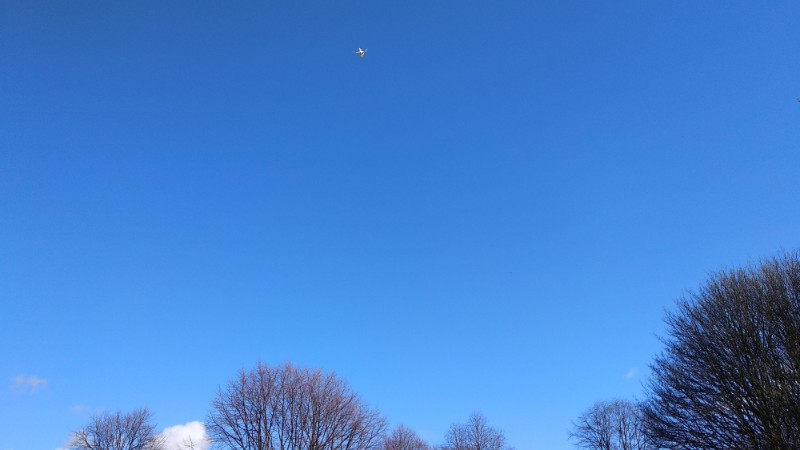drone: (355, 46, 368, 60)
